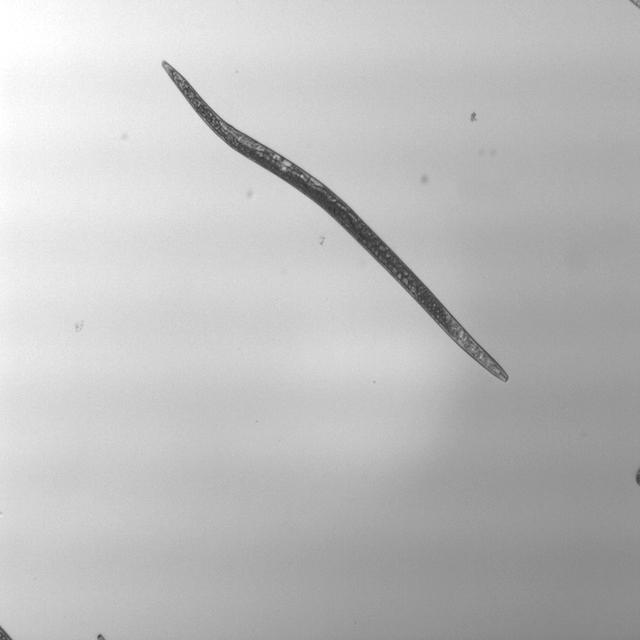Pratylenchus: (156, 53, 514, 387)
